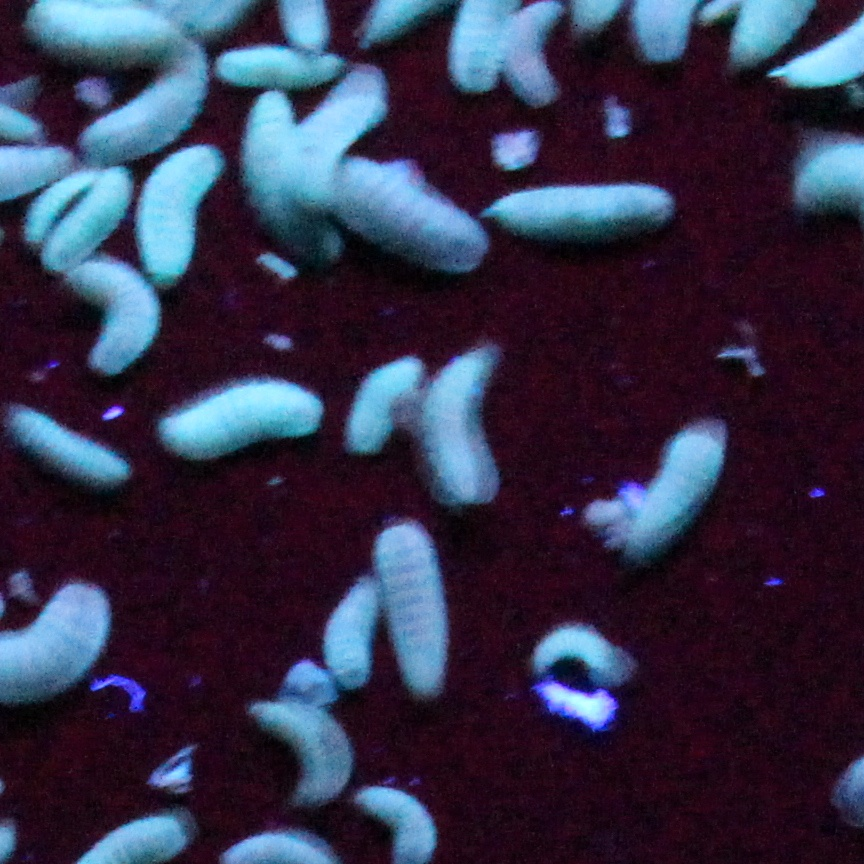larve: (354, 165, 484, 283), (134, 139, 228, 293), (618, 422, 724, 554), (366, 525, 451, 688), (74, 50, 201, 159), (158, 385, 326, 453), (10, 401, 123, 501), (296, 75, 378, 212), (258, 692, 358, 801), (339, 347, 424, 455), (440, 331, 489, 509), (77, 259, 147, 375), (533, 608, 630, 689), (490, 191, 671, 234), (43, 181, 122, 265), (323, 569, 379, 687), (30, 4, 173, 47), (251, 96, 288, 248), (28, 169, 86, 235), (223, 48, 323, 80)
